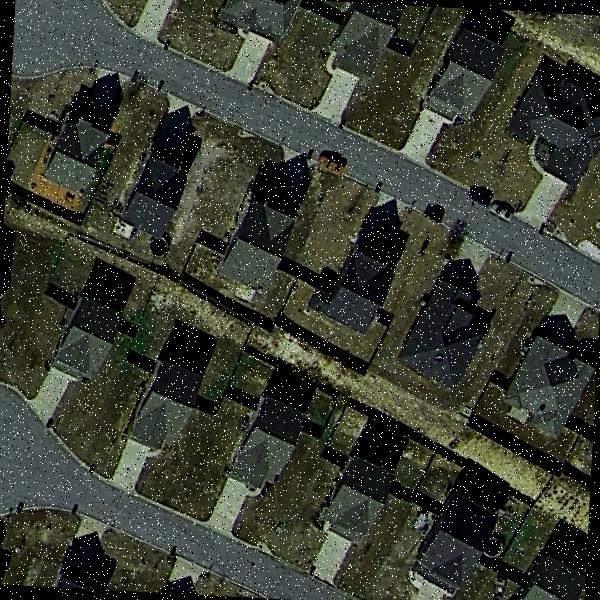Buildings: (500, 340, 598, 440), (511, 74, 600, 171), (9, 119, 102, 207), (408, 498, 498, 586), (427, 30, 504, 132), (403, 286, 481, 383), (334, 2, 403, 92), (121, 147, 189, 238), (128, 365, 202, 446), (219, 0, 308, 57), (230, 410, 290, 494), (48, 300, 116, 373), (230, 195, 286, 282), (320, 260, 384, 327), (336, 467, 372, 562), (505, 564, 581, 600)
